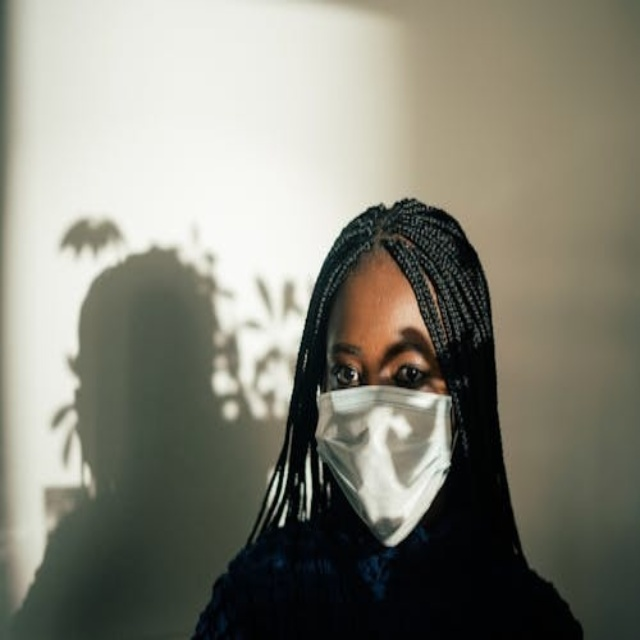Mascara: (311, 382, 456, 545)
Sin_gafas: (317, 326, 442, 394)
